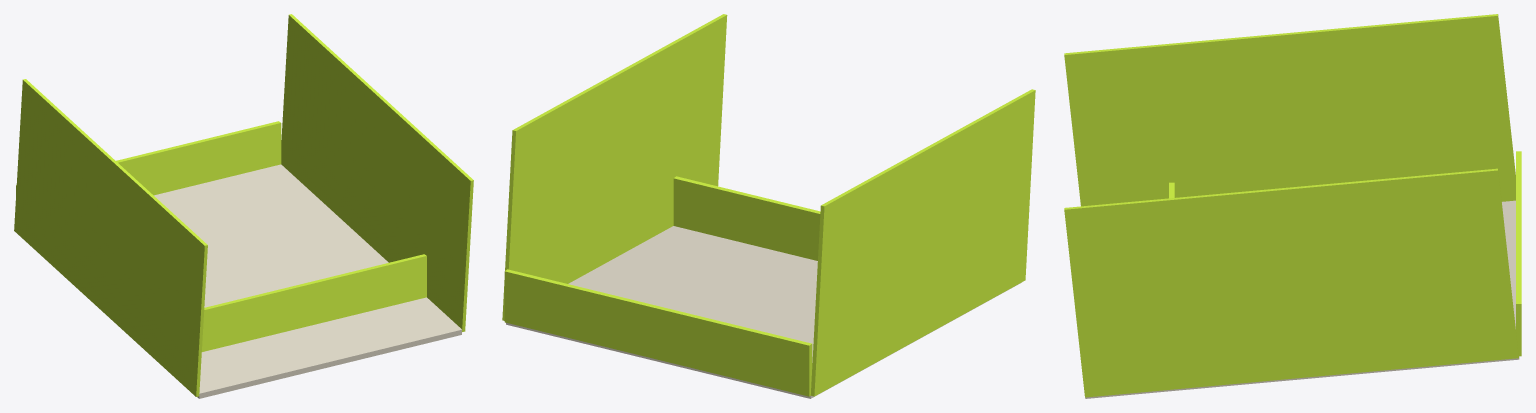
The model's file is visuals.glb.
3 views of the same model, side by side, from view 1: azimuth 30°, elevation 25°; view 2: azimuth 150°, elevation 25°; view 3: azimuth 270°, elevation 25° (orthographic). The views are drawn at different scales.
Visible parts, largest first — view 1: start-rail-left, start-floor, start-rail-right, start-gate, start-back-wall; view 2: start-rail-left, start-rail-right, start-floor, start-back-wall, start-gate; view 3: start-rail-right, start-rail-left, start-floor, start-back-wall.
Part boxes in pixels (x1,y1,x2,y2): start-rail-left: (14,79,207,396); start-floor: (154,164,461,398); start-rail-right: (281,14,473,331); start-gate: (202,254,426,351); start-back-wall: (16,121,281,195); start-rail-left: (810,89,1035,396); start-rail-right: (502,14,727,320); start-floor: (506,226,1021,398); start-back-wall: (504,269,812,396); start-gate: (673,176,820,260); start-rail-right: (1064,168,1518,397); start-rail-left: (1064,14,1515,206); start-floor: (1085,200,1519,398); start-back-wall: (1516,151,1521,356).
Bounding box in the file's own units: 0.512 × 0.3515 × 0.6327.
